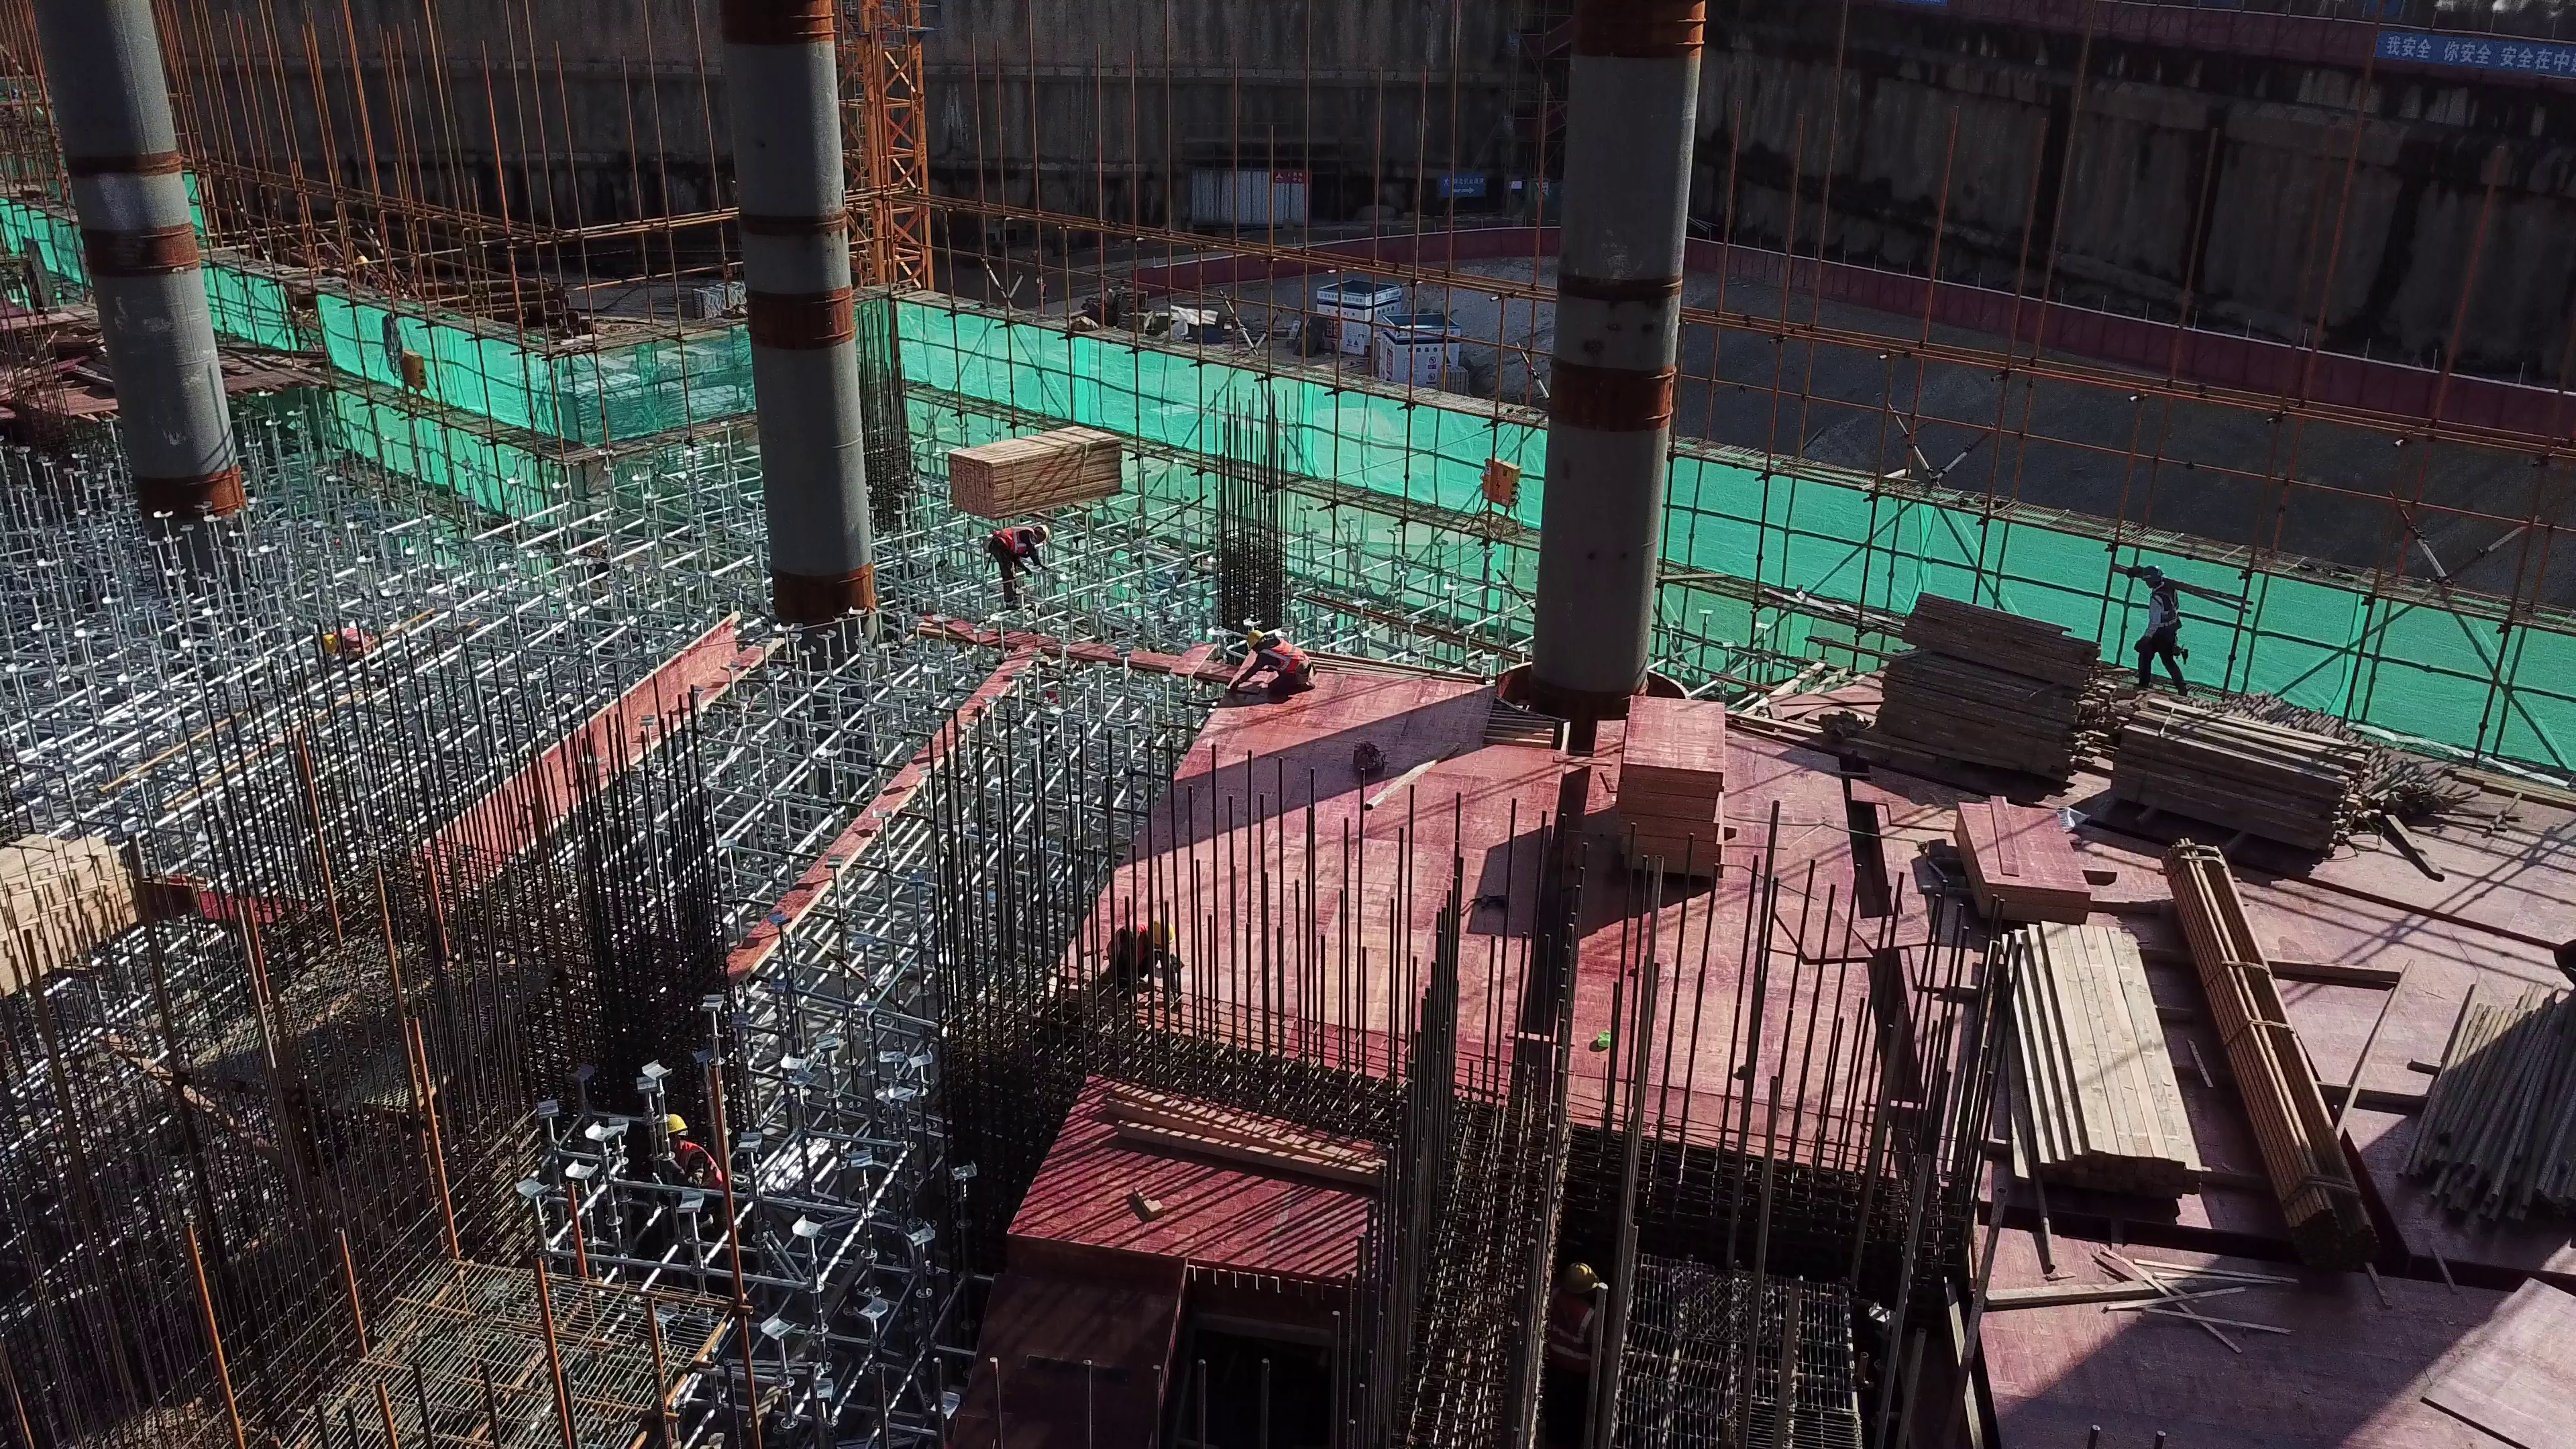helmet: (1144, 917, 1178, 948), (655, 1118, 694, 1144), (1570, 1267, 1609, 1289), (1242, 629, 1263, 653), (2141, 560, 2163, 579), (321, 634, 338, 655), (1030, 524, 1054, 538), (356, 256, 368, 267)
person: (2133, 554, 2196, 716), (645, 1110, 729, 1224), (1546, 1263, 1621, 1385), (1107, 917, 1193, 1001), (987, 523, 1071, 606), (1235, 626, 1313, 701), (319, 623, 390, 675), (351, 251, 386, 289)
vest: (1546, 1288, 1596, 1366), (663, 1144, 723, 1201), (2142, 583, 2184, 651), (1258, 639, 1323, 680), (1108, 922, 1152, 965), (990, 525, 1036, 557), (337, 627, 376, 659)
